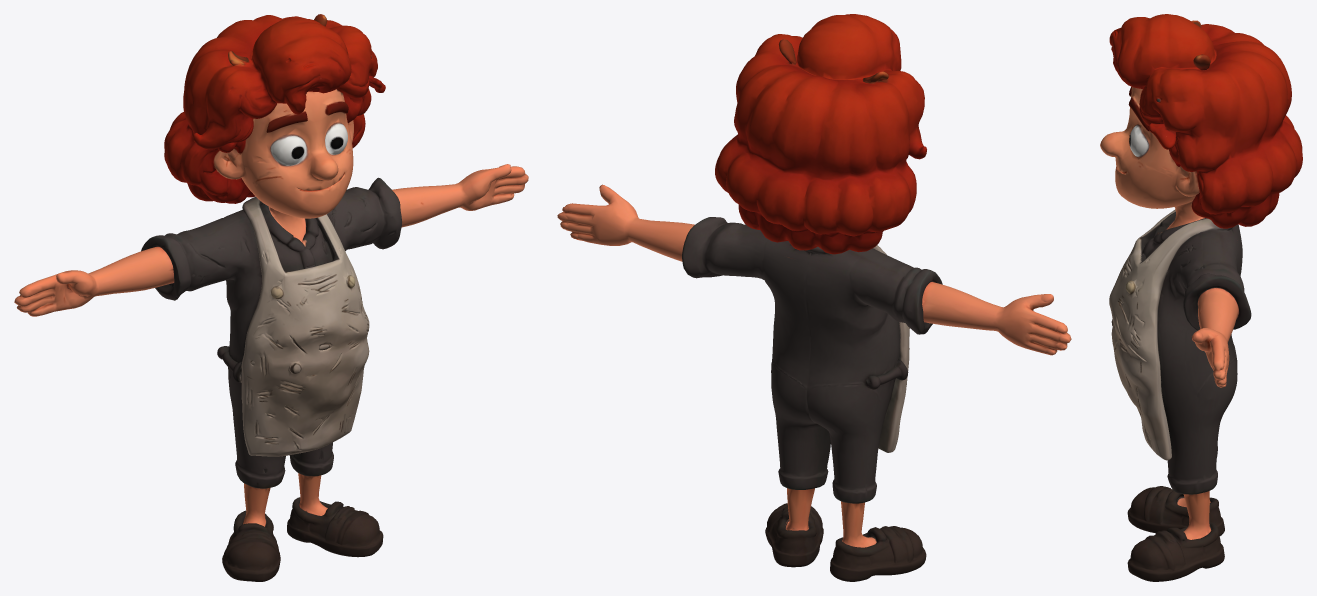
File: barb_the_innkeeper.glb
The picture shows the model from 3 angles, left to right: view 1: azimuth 30°, elevation 25°; view 2: azimuth 150°, elevation 25°; view 3: azimuth 270°, elevation 25°; orthographic projection.
Parts seen in each view (by area): view 1: tripo_node_1ef20286-41de-4dbf-a9dd-a55756d2e993; view 2: tripo_node_1ef20286-41de-4dbf-a9dd-a55756d2e993; view 3: tripo_node_1ef20286-41de-4dbf-a9dd-a55756d2e993.
Boxes of the visible parts, box(x1,y1,x2,y2) form: tripo_node_1ef20286-41de-4dbf-a9dd-a55756d2e993: box(14, 14, 528, 581); tripo_node_1ef20286-41de-4dbf-a9dd-a55756d2e993: box(557, 14, 1071, 581); tripo_node_1ef20286-41de-4dbf-a9dd-a55756d2e993: box(1100, 14, 1302, 581).
Size of the model in its own units: 0.9814 by 0.978 by 0.3395.
Materials: 1 (1 with a texture image).
